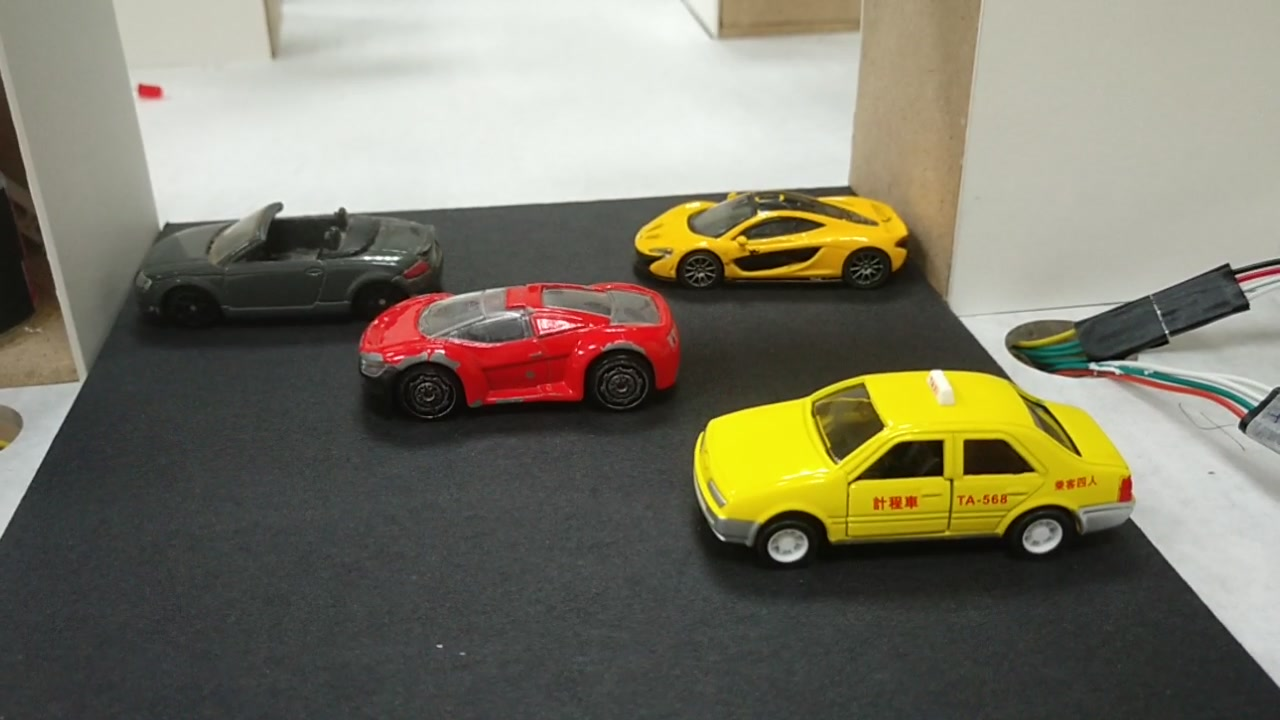car: (693, 380, 1135, 556), (363, 286, 681, 411), (144, 216, 445, 316), (634, 190, 910, 293)
